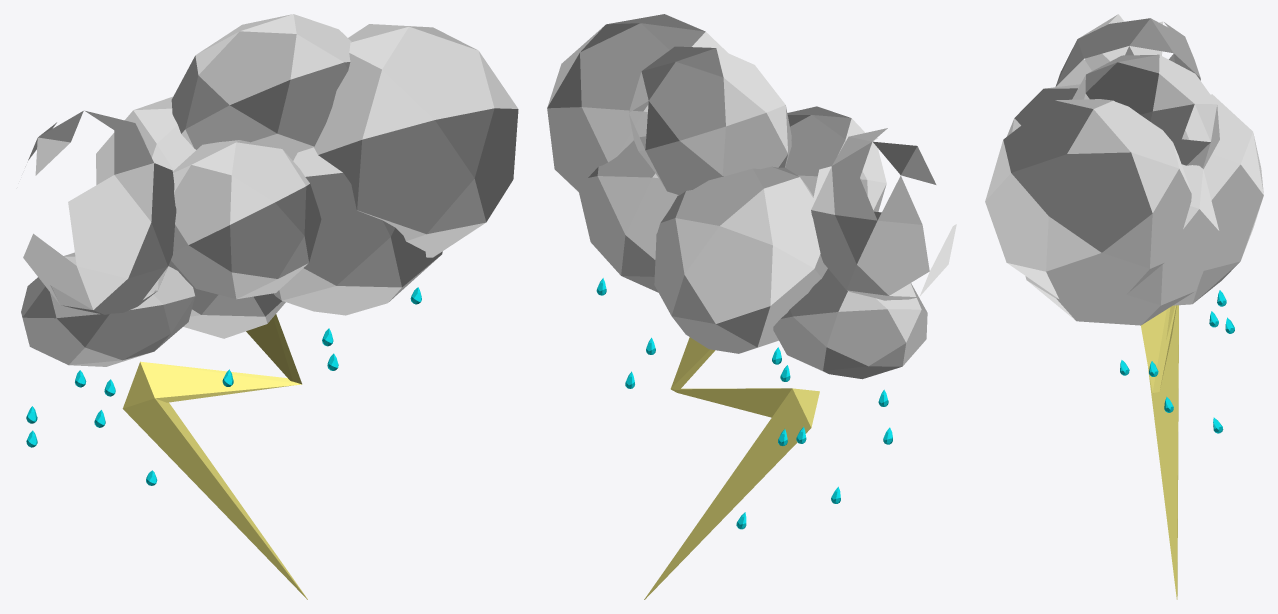
Rendered from Lightning.glb.
3 renders of one model, left to right at view 1: azimuth 30°, elevation 25°; view 2: azimuth 150°, elevation 25°; view 3: azimuth 270°, elevation 25°, orthographic. The views are drawn at different scales.
Visible parts, largest first — view 1: Node; view 2: Node; view 3: Node.
Part boxes in pixels (x1,y1,x2,y2): Node: (21, 14, 518, 599); Node: (547, 14, 956, 599); Node: (985, 14, 1263, 599).
Size of the model in its own units: 1.08 by 1.36 by 0.6652.
